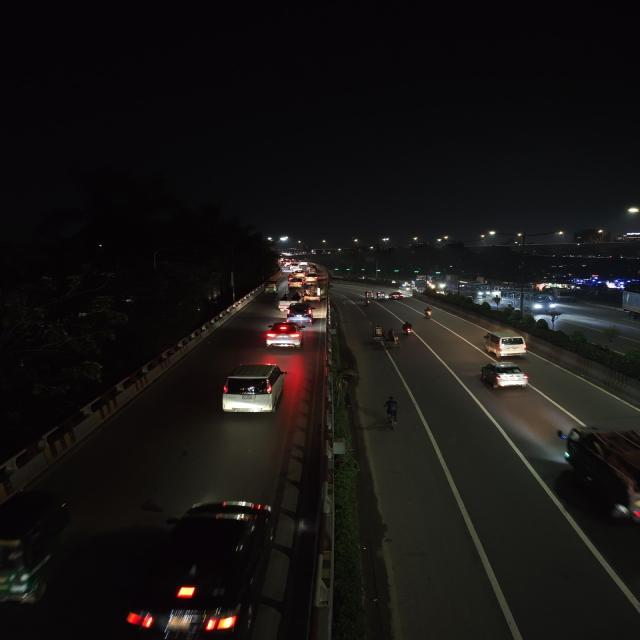bicycle: (378, 394, 406, 430)
bus: (502, 289, 556, 314), (459, 283, 491, 299)
car: (159, 493, 277, 640), (217, 362, 290, 420), (477, 360, 532, 394), (481, 328, 529, 358), (261, 322, 308, 351), (283, 302, 316, 324), (390, 290, 405, 300)
cng: (264, 281, 279, 295), (376, 290, 385, 302)
motorcycle: (401, 321, 416, 337), (421, 305, 436, 320)
pickup_van: (552, 421, 640, 531), (278, 291, 303, 305), (300, 284, 320, 300)
rickshaw: (368, 322, 388, 340), (384, 330, 401, 348)
